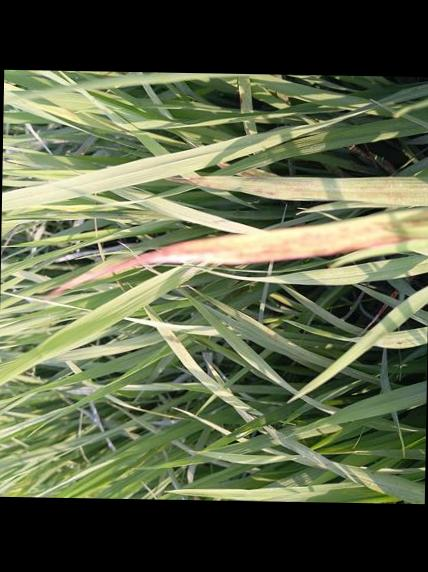Leaf Streak: (55, 207, 428, 293)
